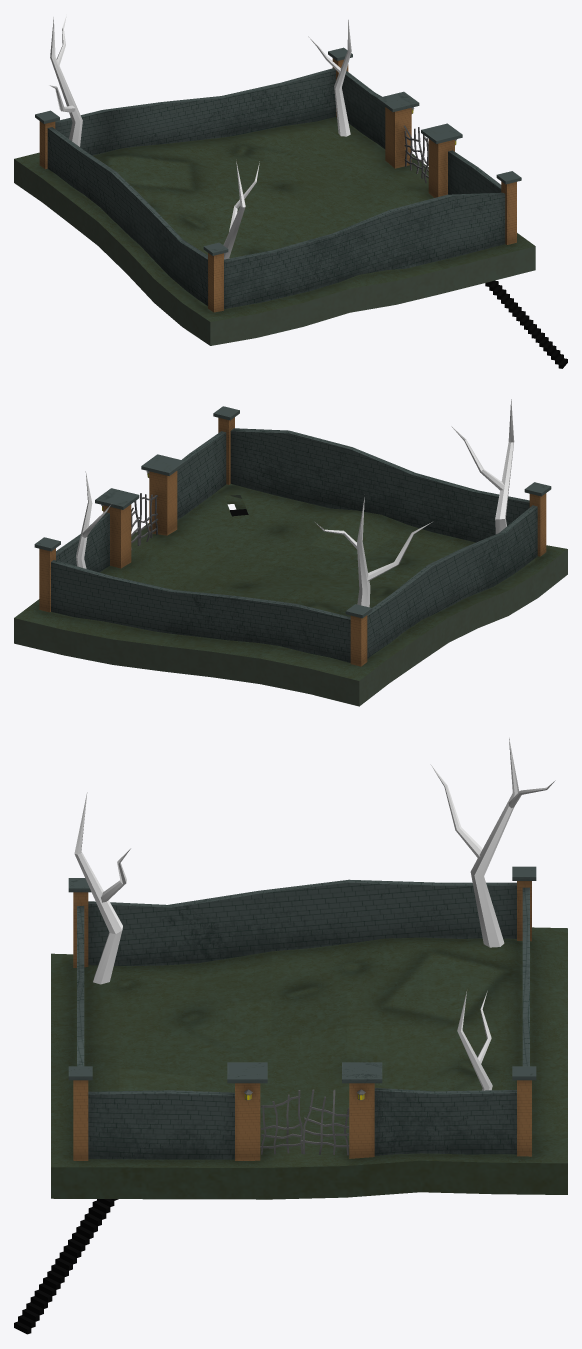
Rendered from FBXEx-underground compart.fbx.
3 views of the same model, one above another, from view 1: azimuth 30°, elevation 25°; view 2: azimuth 150°, elevation 25°; view 3: azimuth 270°, elevation 25° (orthographic). The views are drawn at different scales.
Visible parts, largest first — view 1: Cemetary; view 2: Cemetary; view 3: Cemetary.
Boxes of the visible parts, x1,y1,x2,y2 form: Cemetary: (14, 16, 567, 368); Cemetary: (14, 399, 567, 706); Cemetary: (14, 737, 567, 1334).
Bounding box in the file's own units: 2577 × 1971 × 2562.
